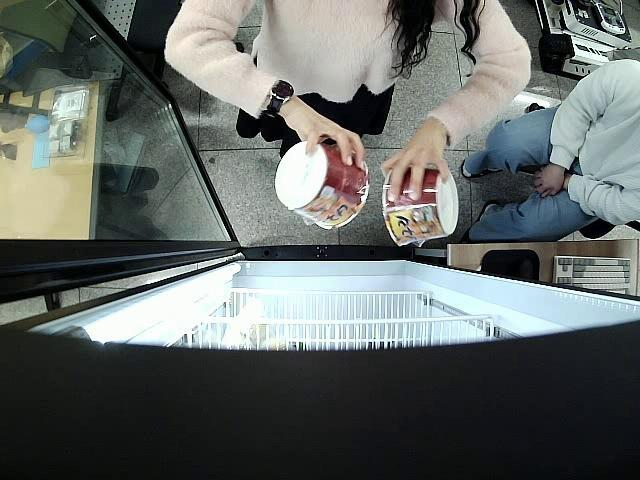05_nuguri_L: (274, 140, 372, 231), (380, 169, 460, 248)
